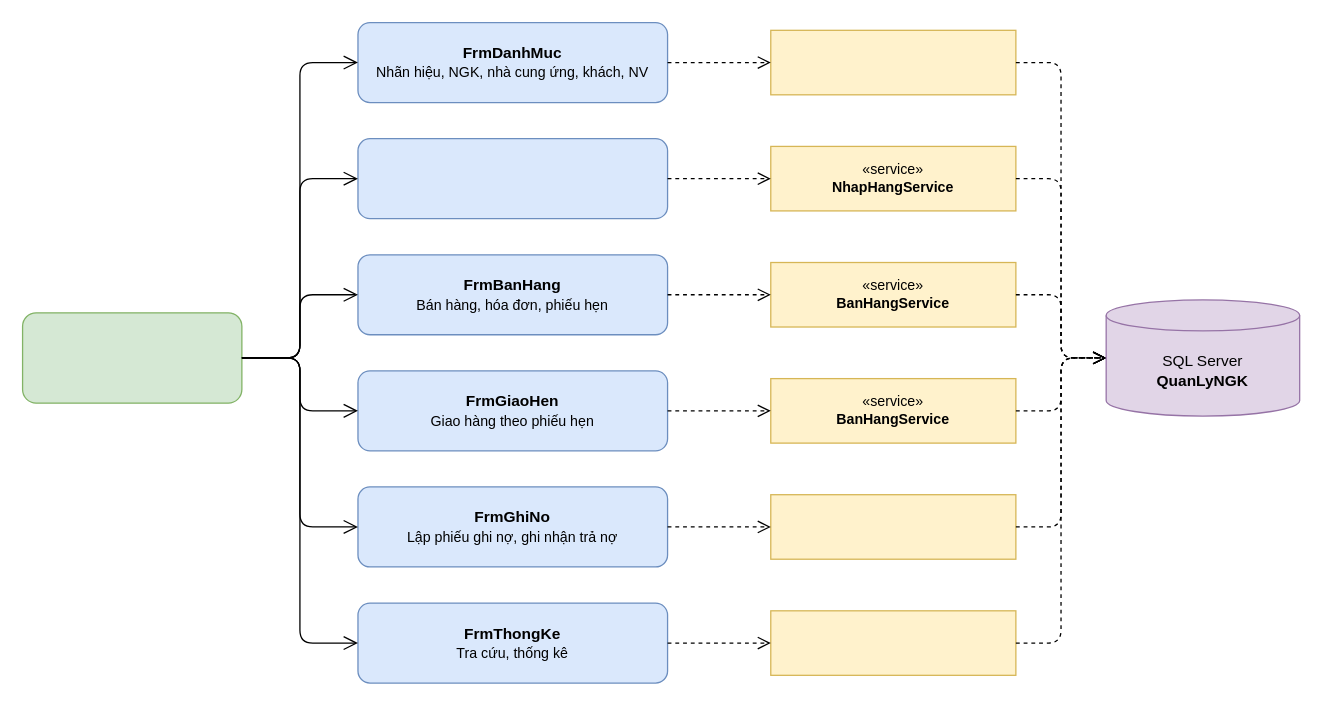
Image size: 1322x706. Some labels were removed from this diagram. Each missing label, with the box of its shape:
FrmMain: (21, 312, 242, 403)
FrmNhapHang Đơn đặt hàng, nhận hàng theo phiếu giao: (357, 137, 668, 219)
«service» DanhMucService: (769, 29, 1016, 95)
«service» GhiNoService: (769, 493, 1016, 559)
«service» ThongKeService: (769, 610, 1016, 675)
